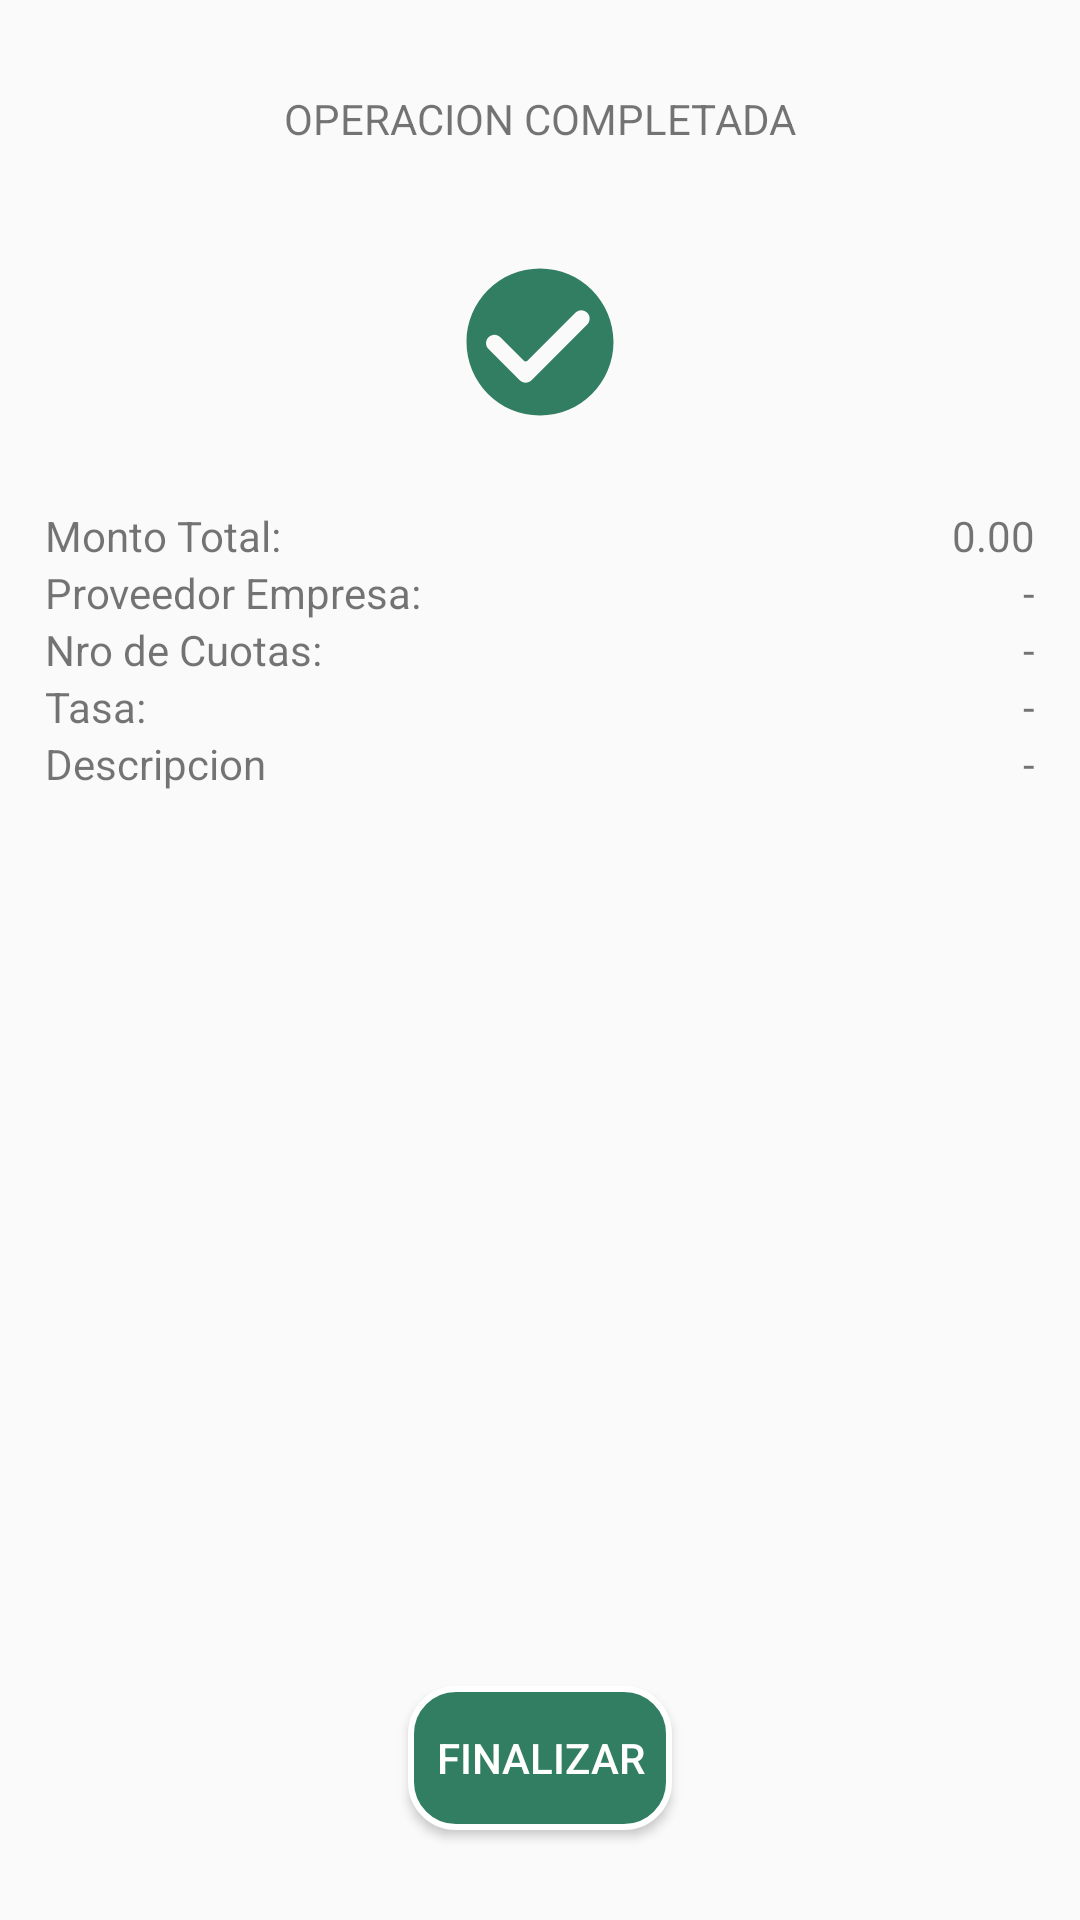

Named icons in this screenshot (1080 x 1920) and their centers, (x=x, y=y):
check ok: (x=540, y=342)
